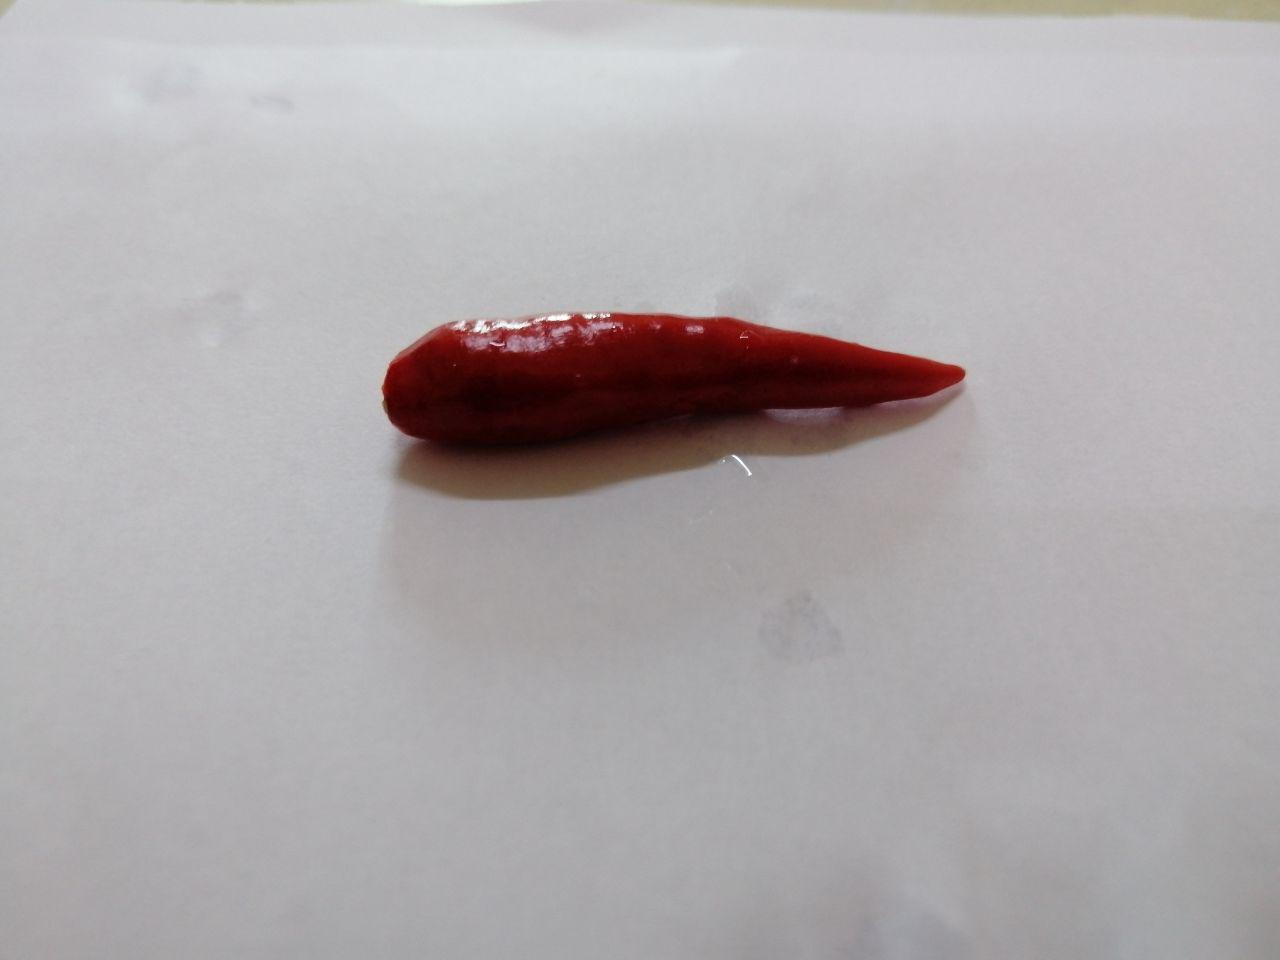lada merah: (365, 275, 980, 487)
